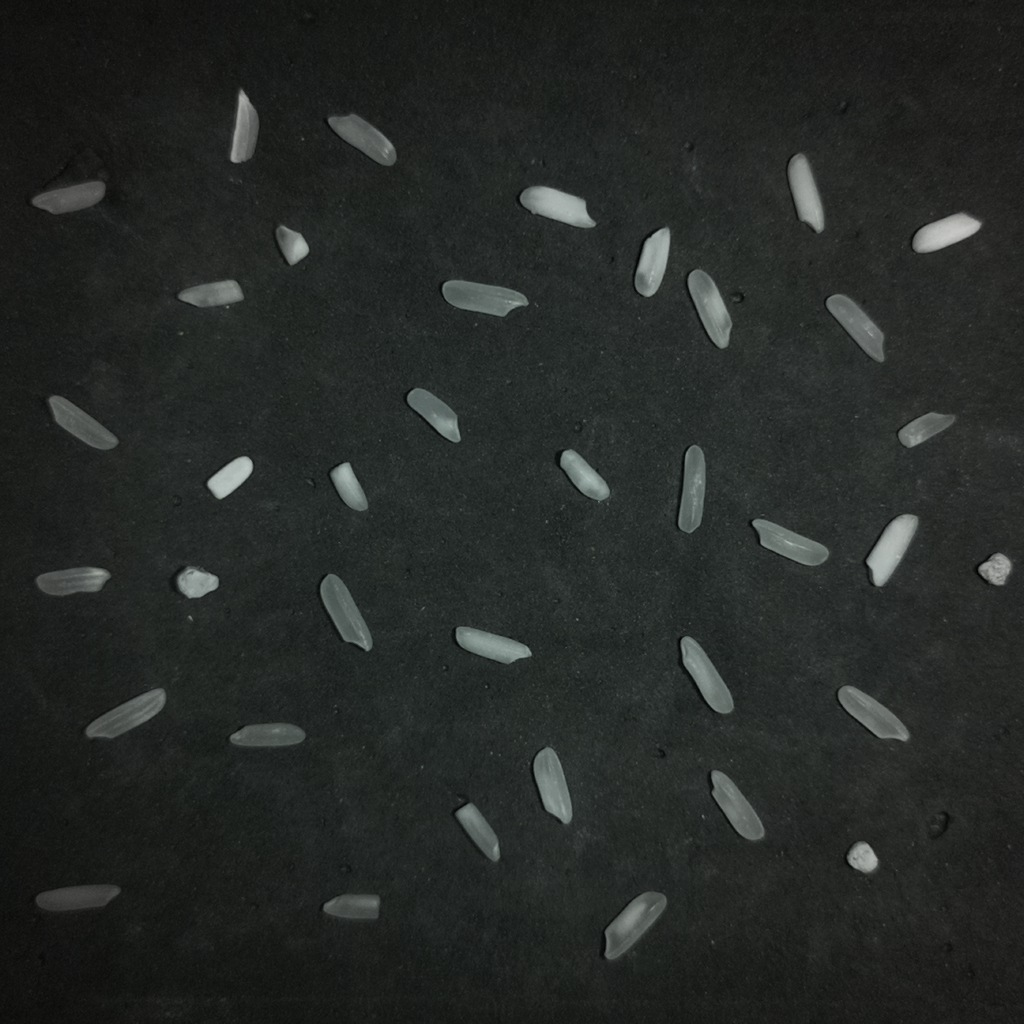broken: (406, 388, 460, 442), (455, 803, 499, 861), (229, 89, 258, 163), (898, 412, 954, 447), (177, 279, 243, 307), (322, 894, 379, 919), (846, 841, 879, 874)
chalky: (681, 636, 732, 711), (866, 514, 918, 586), (519, 186, 595, 227), (534, 747, 572, 823), (788, 153, 824, 232), (455, 626, 531, 663), (911, 212, 981, 252), (559, 449, 609, 500), (634, 226, 670, 296), (207, 456, 253, 499), (330, 462, 367, 511), (275, 224, 309, 265)
foreign: (175, 566, 219, 598), (977, 553, 1012, 585)
whole: (604, 891, 666, 959), (837, 685, 909, 741), (85, 688, 165, 738), (825, 294, 883, 361), (320, 574, 371, 650), (47, 395, 117, 449), (711, 770, 764, 840), (327, 113, 396, 165), (752, 519, 828, 565), (687, 269, 730, 347), (442, 280, 528, 317), (31, 180, 105, 214), (677, 445, 705, 532), (35, 884, 120, 911), (35, 567, 110, 596), (230, 723, 305, 747)
